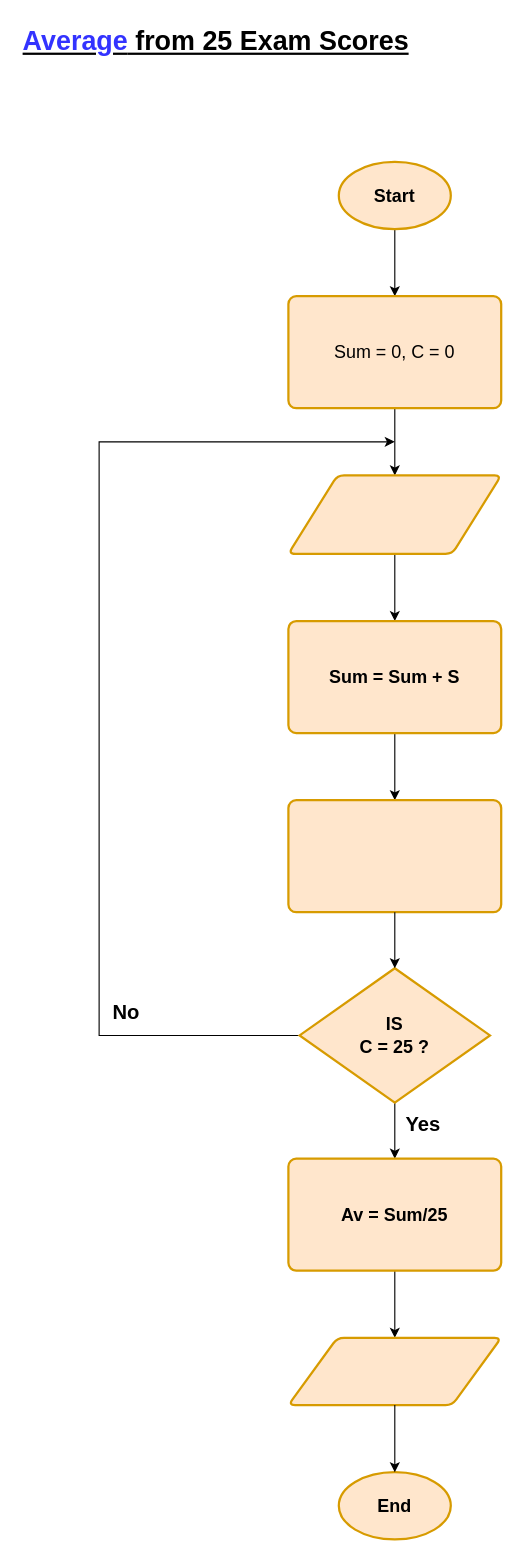
This 521x1559 diagram has some shape labels left out. Each missing label, with the centre of its shape:
"C = C + 1" goes at (394,856).
"Enter Exam Scores, S" goes at (394,514).
"Print Av" goes at (394,1371).
